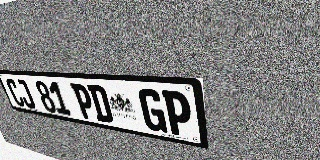1: (46, 82, 71, 116)
8: (34, 81, 58, 113)
C: (5, 78, 27, 108)
D: (86, 85, 114, 123)
G: (137, 88, 168, 133)
J: (14, 79, 37, 109)
P: (162, 90, 194, 138), (70, 83, 97, 120)
